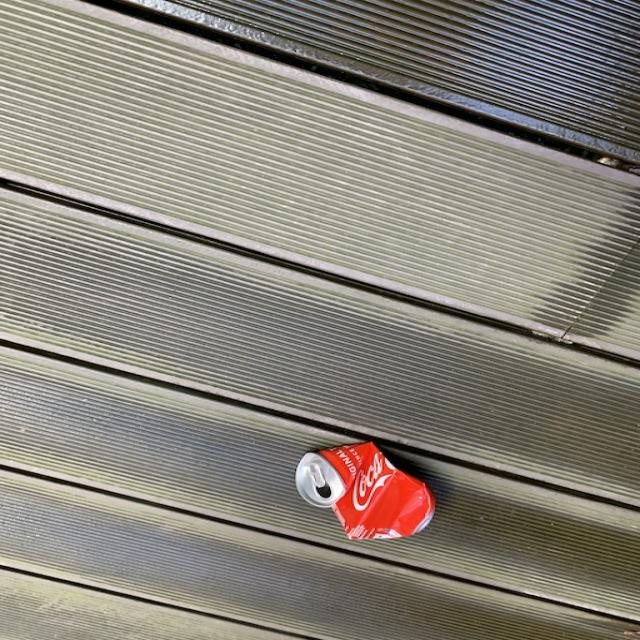litter: (295, 438, 441, 544)
